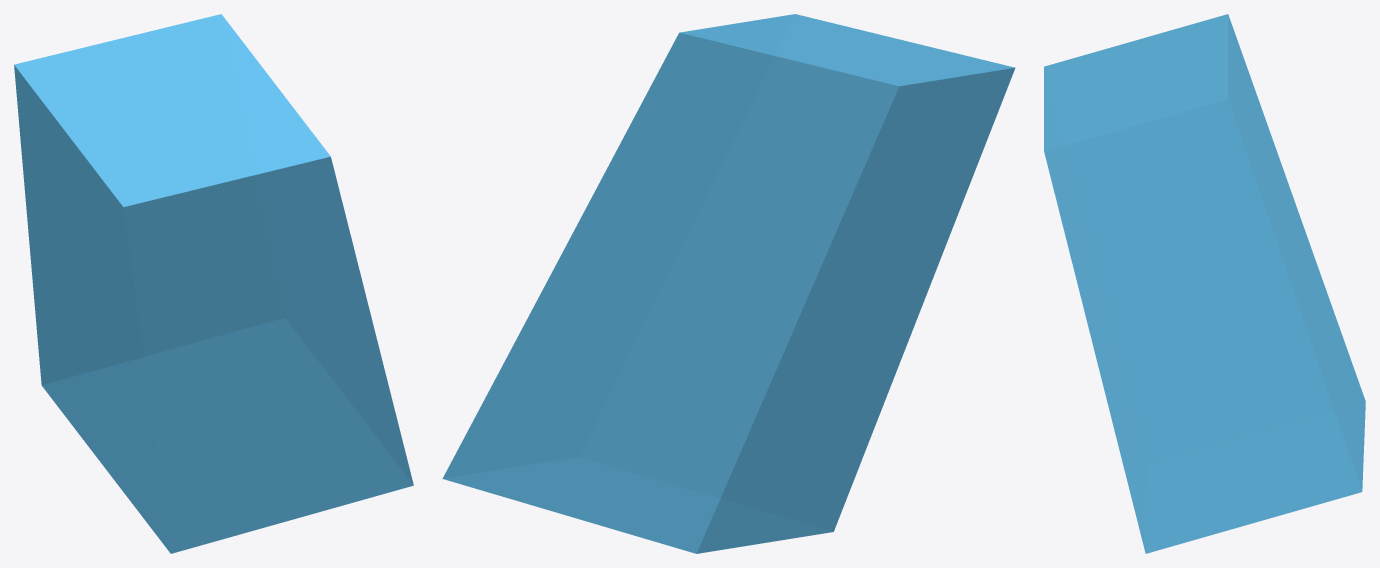
Rendered from Event_420094457_HBrechit_22.fbx.
3 views of the same model, side by side, from view 1: azimuth 30°, elevation 25°; view 2: azimuth 150°, elevation 25°; view 3: azimuth 270°, elevation 25° (orthographic). The views are drawn at different scales.
Visible parts, largest first — view 1: Model; view 2: Model; view 3: Model.
Part boxes in pixels (x1=…): Model: x1=14, y1=14, x2=413, y2=553; Model: x1=442, y1=14, x2=1015, y2=553; Model: x1=1044, y1=14, x2=1365, y2=553.
Size of the model in its own units: 0.7092 by 0.9297 by 0.6695.
